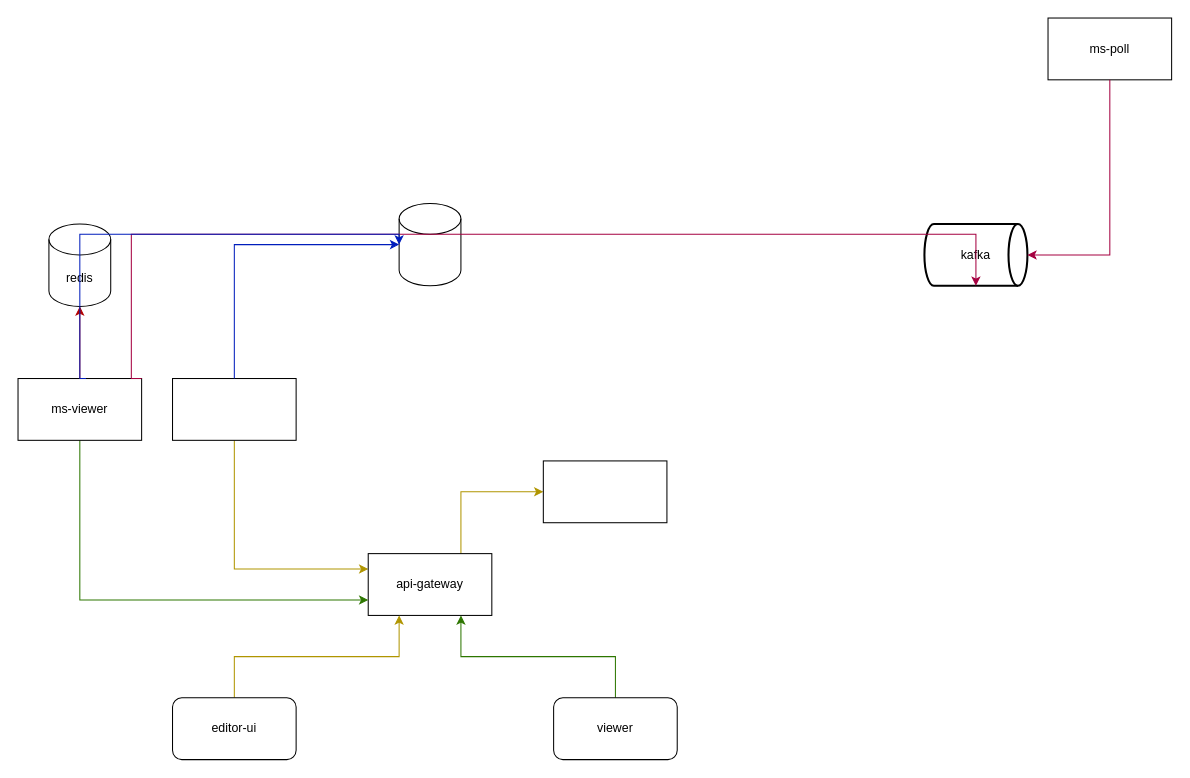
The diagram is 1190 pixels wide and 778 high, and some of its shapes have lost their labels. The shapes that lost their labels are listed below. From the top down, each one's box as (x1, y1, x2, y2) in pixels, then its label:
(398, 202, 461, 286): pg
(171, 377, 296, 440): ms-editor
(542, 460, 667, 523): ms-auth
